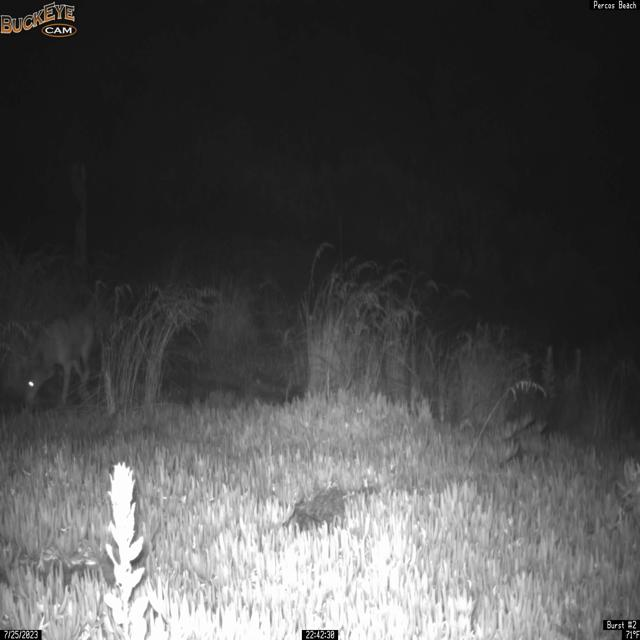coyote: (19, 311, 97, 409)
